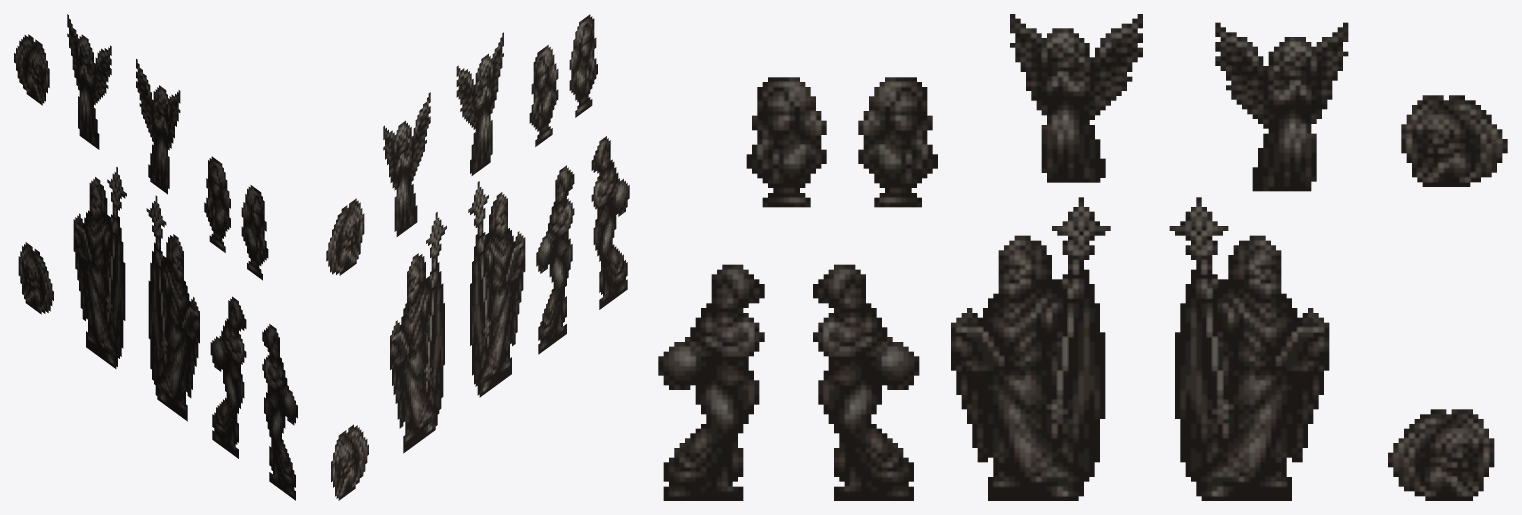
Rendered from EnvObjMD_Statue_C_Sage_L.FBX.
3 views of the same model, side by side, from view 1: azimuth 30°, elevation 25°; view 2: azimuth 150°, elevation 25°; view 3: azimuth 270°, elevation 25° (orthographic). The views are drawn at different scales.
Parts seen in each view (by area): view 1: EnvObjMD_Statue_C_Sage_R, EnvObjMD_Statue_C_Sage_L, EnvObjMD_Statue_C_Vase_R, EnvObjMD_Statue_C_Vase_L, EnvObjMD_Statue_C_Angel_A_L, EnvObjMD_Statue_C_Angel_A_R, EnvObjMD_Statue_C_Bust_L, EnvObjMD_Statue_C_Bust_R, EnvObjMD_Statue_C_Angel_B_L, EnvObjMD_Statue_C_Angel_B_R; view 2: EnvObjMD_Statue_C_Sage_R, EnvObjMD_Statue_C_Sage_L, EnvObjMD_Statue_C_Vase_L, EnvObjMD_Statue_C_Vase_R, EnvObjMD_Statue_C_Angel_A_R, EnvObjMD_Statue_C_Angel_A_L, EnvObjMD_Statue_C_Bust_R, EnvObjMD_Statue_C_Bust_L, EnvObjMD_Statue_C_Angel_B_R, EnvObjMD_Statue_C_Angel_B_L; view 3: EnvObjMD_Statue_C_Sage_L, EnvObjMD_Statue_C_Sage_R, EnvObjMD_Statue_C_Vase_L, EnvObjMD_Statue_C_Vase_R, EnvObjMD_Statue_C_Angel_A_L, EnvObjMD_Statue_C_Angel_A_R, EnvObjMD_Statue_C_Bust_L, EnvObjMD_Statue_C_Angel_B_L, EnvObjMD_Statue_C_Bust_R, EnvObjMD_Statue_C_Angel_B_R.
Part boxes in pixels (x1,y1,x2,y2): EnvObjMD_Statue_C_Sage_R: (73, 167, 126, 368); EnvObjMD_Statue_C_Sage_L: (146, 195, 199, 421); EnvObjMD_Statue_C_Vase_R: (210, 296, 246, 458); EnvObjMD_Statue_C_Vase_L: (262, 324, 297, 500); EnvObjMD_Statue_C_Angel_A_L: (67, 14, 111, 149); EnvObjMD_Statue_C_Angel_A_R: (136, 59, 180, 194); EnvObjMD_Statue_C_Bust_L: (241, 185, 268, 280); EnvObjMD_Statue_C_Bust_R: (204, 156, 230, 252); EnvObjMD_Statue_C_Angel_B_L: (18, 242, 53, 314); EnvObjMD_Statue_C_Angel_B_R: (14, 34, 49, 105); EnvObjMD_Statue_C_Sage_R: (390, 212, 446, 453); EnvObjMD_Statue_C_Sage_L: (468, 181, 525, 397); EnvObjMD_Statue_C_Vase_L: (591, 136, 629, 309); EnvObjMD_Statue_C_Vase_R: (536, 165, 574, 354); EnvObjMD_Statue_C_Angel_A_R: (456, 32, 503, 175); EnvObjMD_Statue_C_Angel_A_L: (383, 92, 430, 236); EnvObjMD_Statue_C_Bust_R: (529, 45, 558, 146); EnvObjMD_Statue_C_Bust_L: (569, 14, 597, 117); EnvObjMD_Statue_C_Angel_B_R: (326, 198, 364, 275); EnvObjMD_Statue_C_Angel_B_L: (331, 424, 368, 500); EnvObjMD_Statue_C_Sage_L: (951, 197, 1110, 500); EnvObjMD_Statue_C_Sage_R: (1169, 197, 1329, 500); EnvObjMD_Statue_C_Vase_L: (658, 264, 764, 500); EnvObjMD_Statue_C_Vase_R: (813, 264, 919, 500); EnvObjMD_Statue_C_Angel_A_L: (1215, 22, 1348, 191); EnvObjMD_Statue_C_Angel_A_R: (1010, 14, 1142, 182); EnvObjMD_Statue_C_Bust_L: (746, 77, 826, 207); EnvObjMD_Statue_C_Angel_B_L: (1388, 409, 1494, 500); EnvObjMD_Statue_C_Bust_R: (858, 77, 937, 207); EnvObjMD_Statue_C_Angel_B_R: (1401, 95, 1507, 186).
Size of the model in its own units: 3.05e-05 by 505 by 798.
